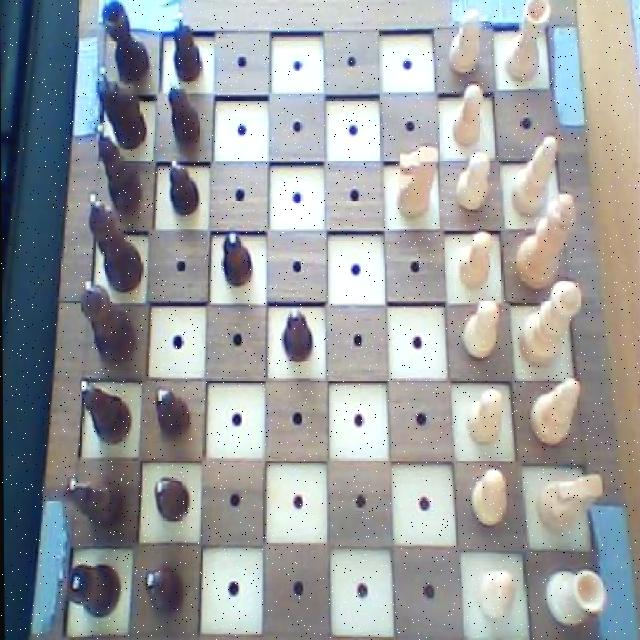bishop: (91, 120, 147, 215), (75, 377, 133, 448)
black-bishop: (84, 192, 145, 296)
black-king: (94, 61, 150, 150), (63, 472, 126, 536)
black-knight: (141, 558, 190, 620), (168, 77, 206, 148), (169, 8, 205, 80), (151, 384, 192, 442), (280, 304, 316, 364), (166, 158, 202, 216), (153, 472, 192, 525), (221, 232, 254, 288)
black-pawn: (77, 277, 139, 368)
black-queen: (96, 0, 151, 89), (63, 558, 122, 618)
black-rook: (505, 132, 563, 218), (524, 374, 583, 447)
white-bishop: (513, 191, 580, 290)
white-king: (533, 469, 606, 536), (392, 144, 443, 224)
white-knight: (457, 296, 501, 364), (447, 78, 487, 150), (452, 149, 494, 216), (446, 5, 485, 76), (474, 566, 519, 626), (467, 464, 509, 528), (462, 386, 504, 448), (455, 228, 494, 289)
white-pawn: (516, 277, 585, 368)
white-queen: (498, 0, 554, 83), (542, 564, 610, 628)
